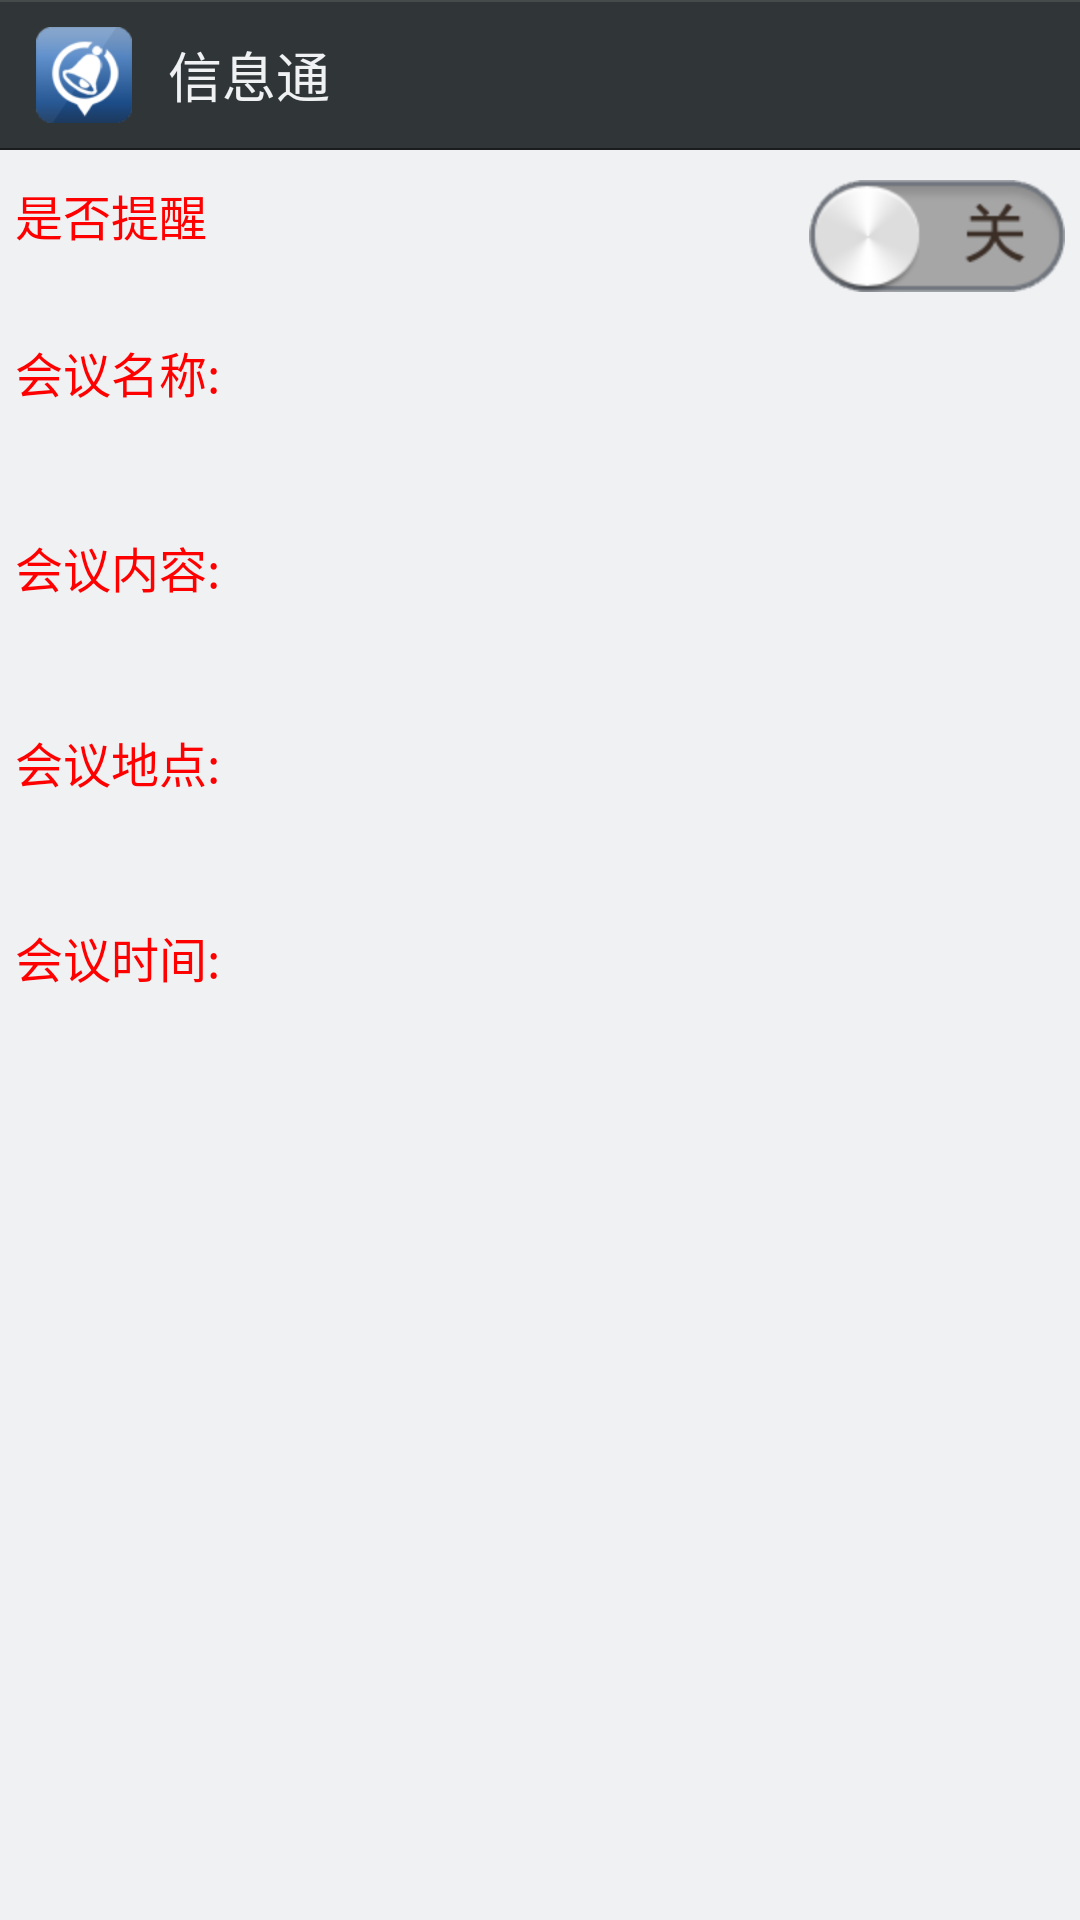

Icon click points for this 1080x1920 phone screenshot, format (x=x, y=y):
switch: (x=937, y=236)
